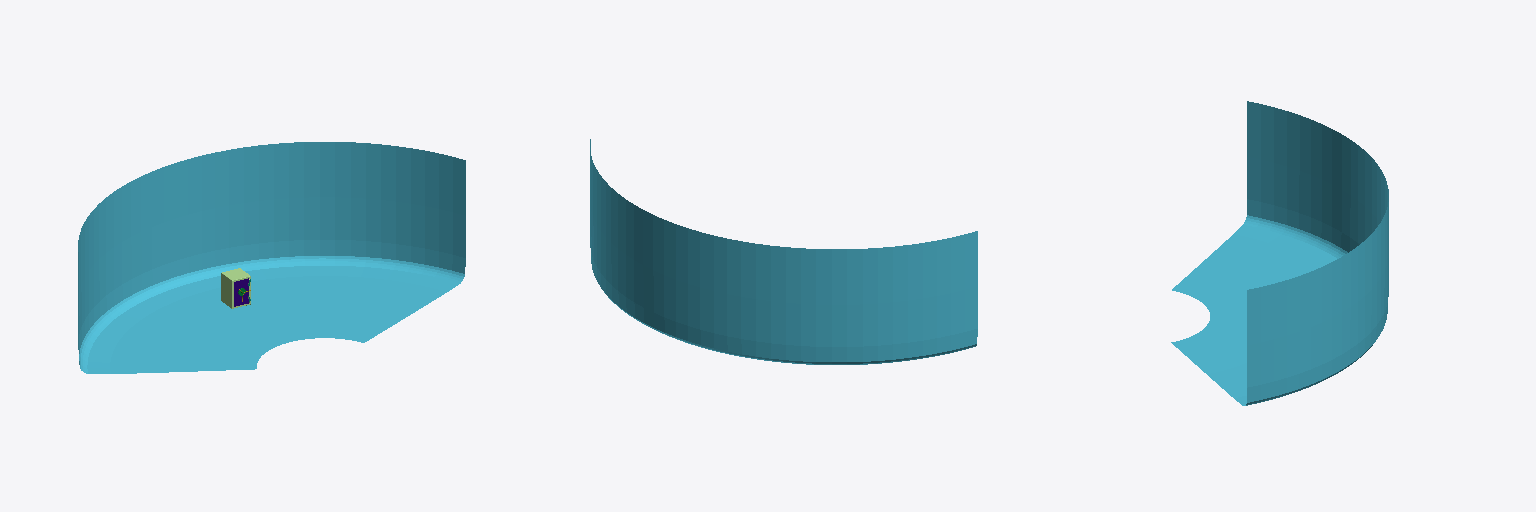
Rendered from safe.obj.
The picture shows the model from 3 angles: view 1: azimuth 30°, elevation 25°; view 2: azimuth 150°, elevation 25°; view 3: azimuth 270°, elevation 25°; orthographic projection.
Visible parts, largest first — view 1: Plane001, safe; view 2: Plane001; view 3: Plane001.
Boxes of the visible parts, x1,y1,x2,y2 form: Plane001: [78, 142, 465, 373]; safe: [221, 268, 250, 308]; Plane001: [590, 139, 977, 364]; Plane001: [1171, 101, 1388, 405].
Bounding box in the file's own units: 2789 × 833 × 1360.